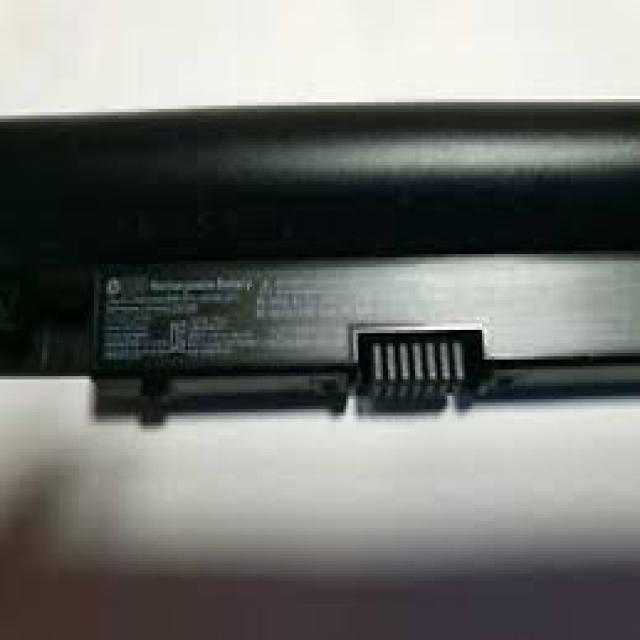Battery: (39, 202, 640, 444)
